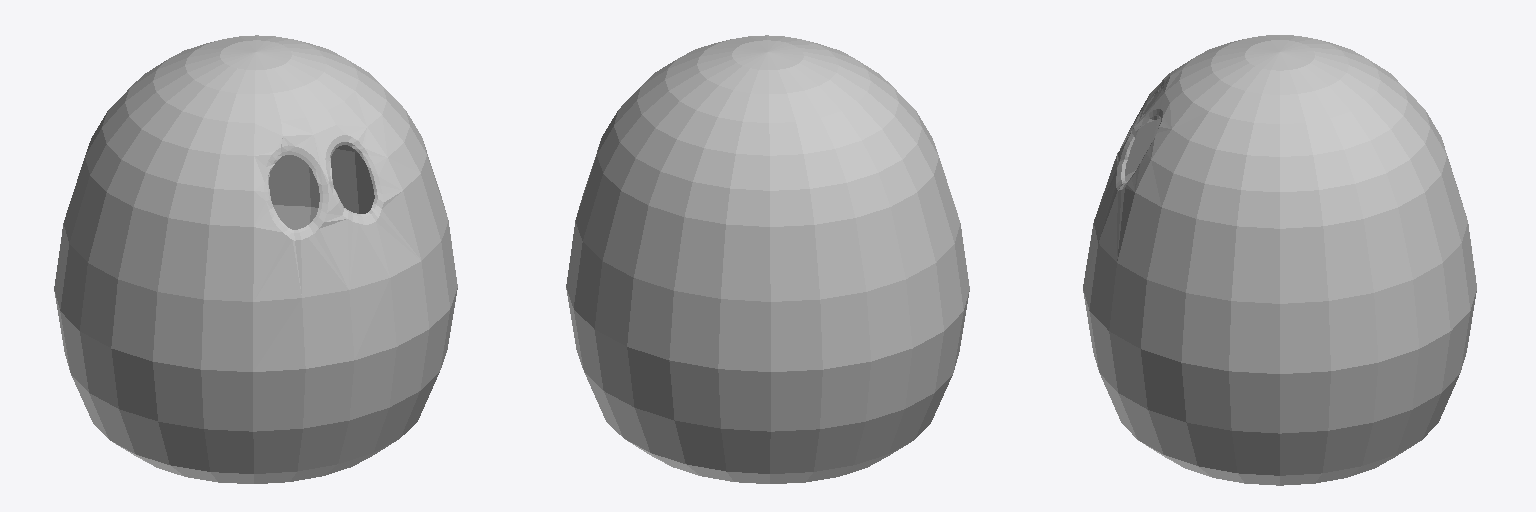
Rendered from cuerpo.obj.
3 views of the same model, side by side, from view 1: azimuth 30°, elevation 25°; view 2: azimuth 150°, elevation 25°; view 3: azimuth 270°, elevation 25° (orthographic).
Visible parts, largest first — view 1: Sphere; view 2: Sphere; view 3: Sphere.
Part boxes in pixels (x1,y1,x2,y2): Sphere: (54,35,457,483); Sphere: (566,35,969,483); Sphere: (1083,35,1476,485).
Size of the model in its own units: 0.9338 by 1.03 by 0.9052.